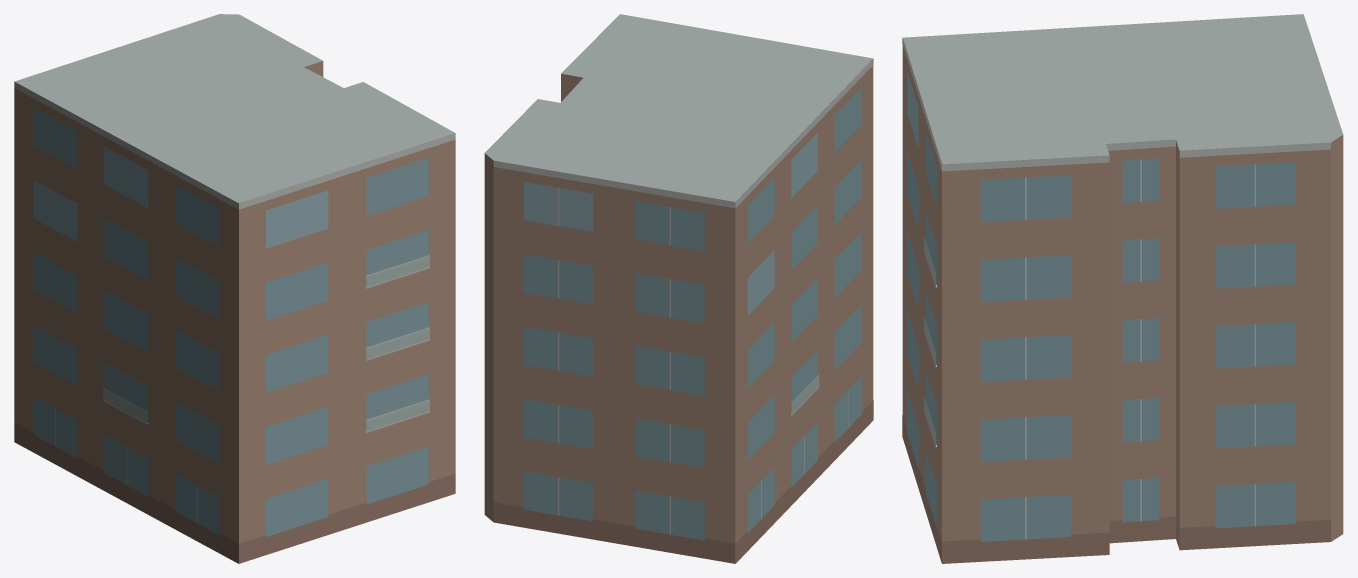
The model's file is survey-upis-32738351.glb.
3 renders of one model, left to right at view 1: azimuth 30°, elevation 25°; view 2: azimuth 150°, elevation 25°; view 3: azimuth 270°, elevation 25°, orthographic. The views are drawn at different scales.
Parts seen in each view (by area): view 1: survey-upis-32738351.tmp; view 2: survey-upis-32738351.tmp; view 3: survey-upis-32738351.tmp.
Boxes of the visible parts, left/top/right/bottom form: survey-upis-32738351.tmp: left=14, top=14, right=455, bottom=563; survey-upis-32738351.tmp: left=484, top=14, right=873, bottom=563; survey-upis-32738351.tmp: left=902, top=14, right=1343, bottom=563.
Size of the model in its own units: 11.24 by 13.9 by 13.91.
